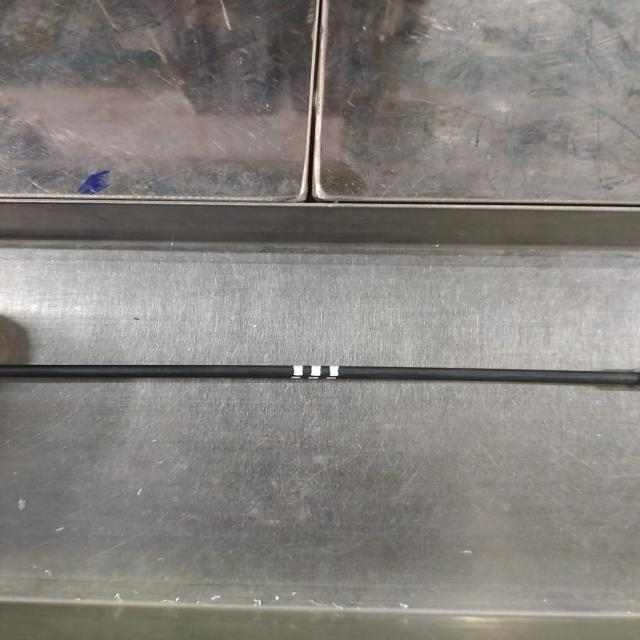white: (292, 365, 340, 381)
